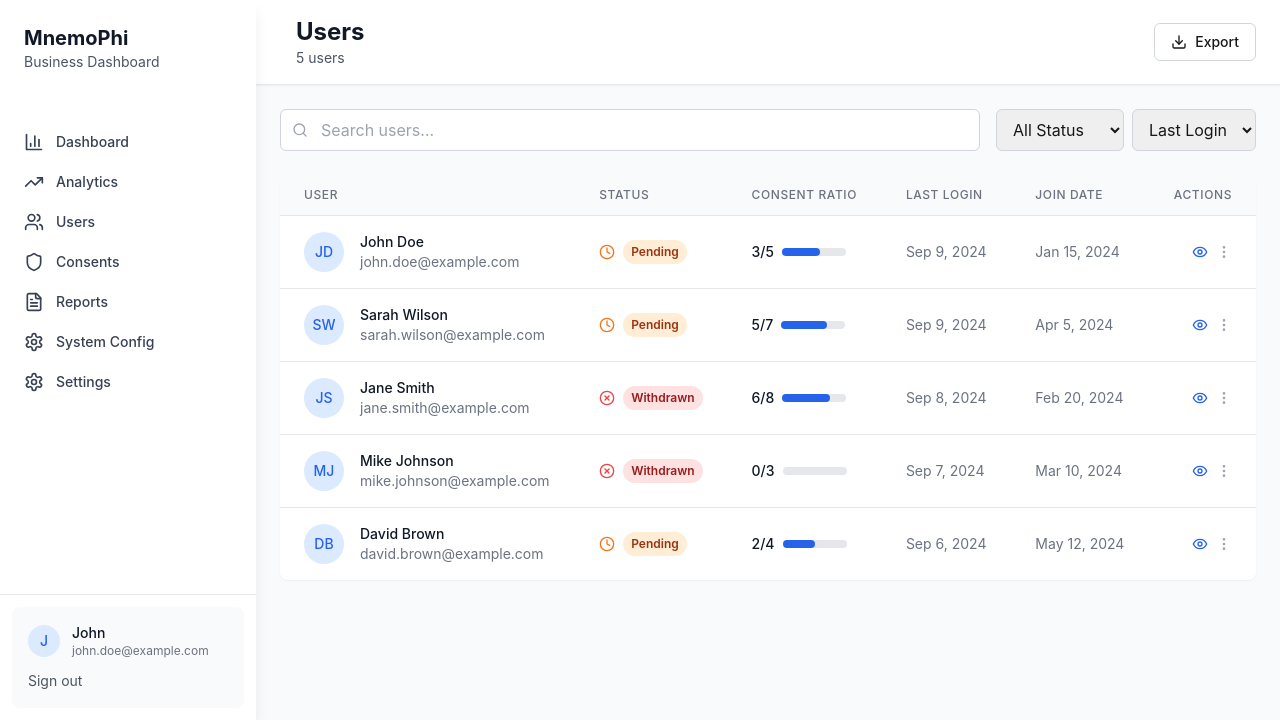
it: UsersPage › filters users when search term is entered
The width and height of the screenshot is (1280, 720).
In the field with placeholder "Search users...": [630, 130] box [280,109,980,151], type "John"
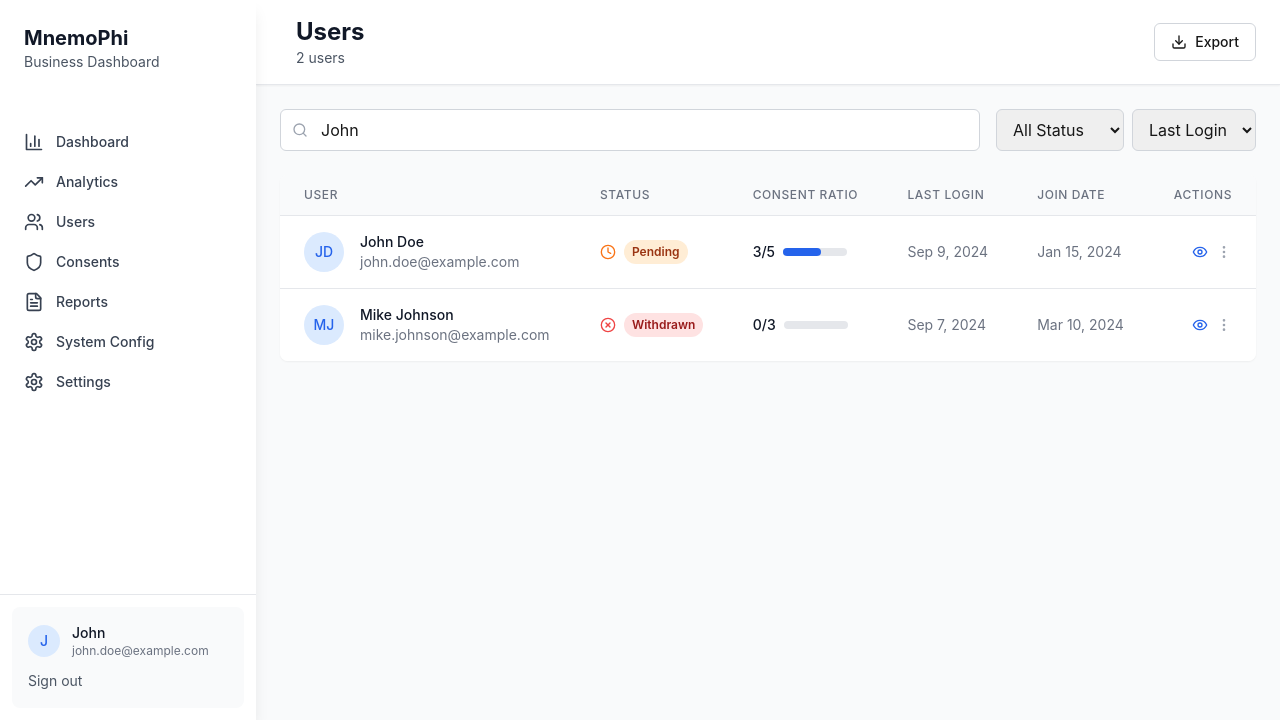
Check: the text "John Doe" is shown, box [360,233,424,250]
Check: the text "Jane Smith" is gone
